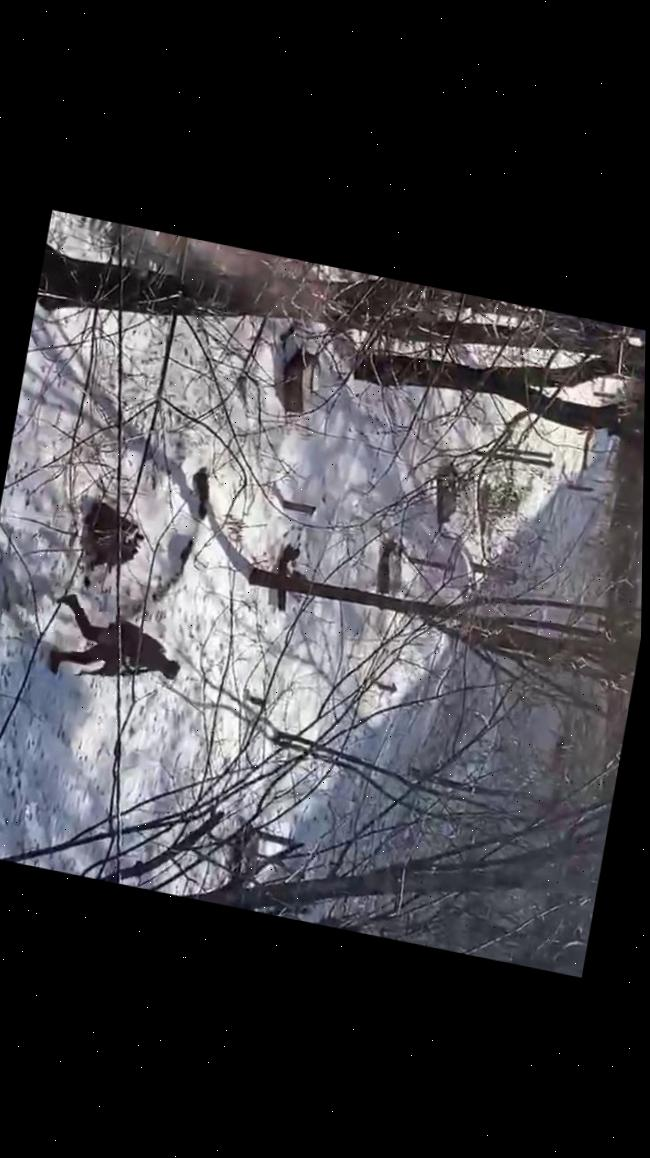person: (41, 588, 189, 702)
